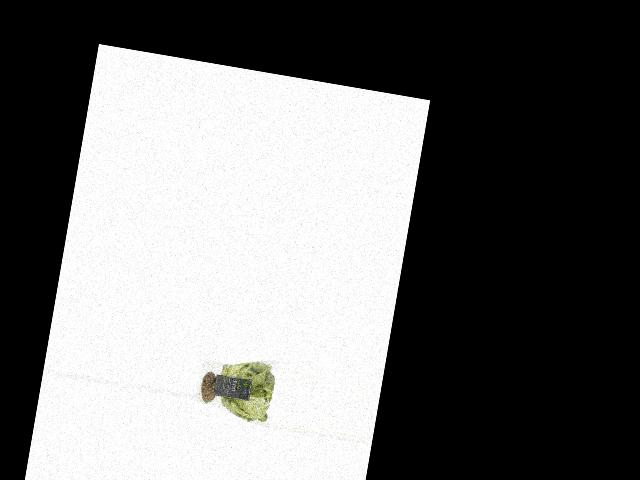lettuce: (192, 349, 279, 427)
